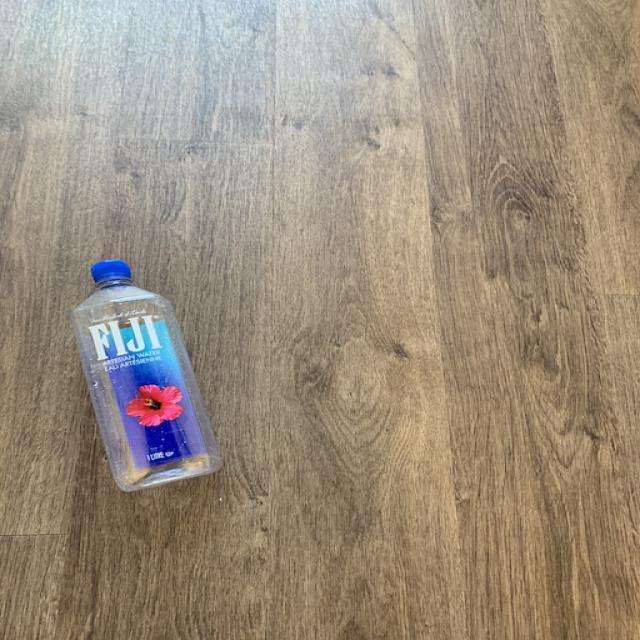Waste: (71, 260, 221, 492)
